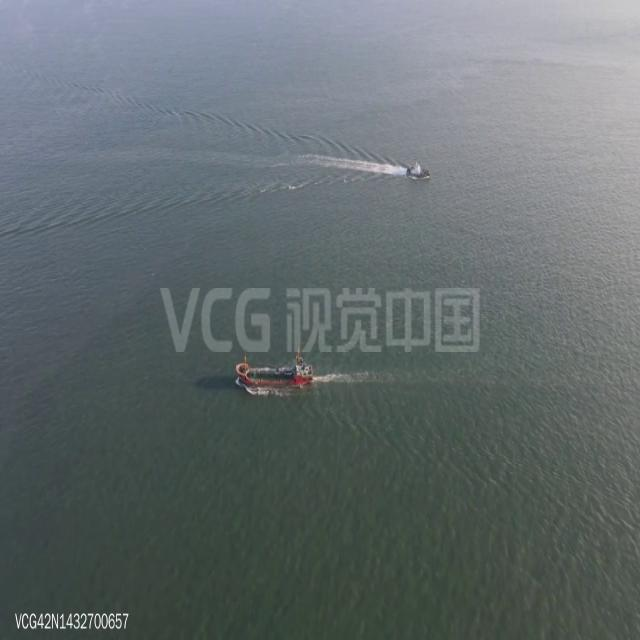cargoship: (235, 349, 316, 396), (404, 159, 432, 184)
